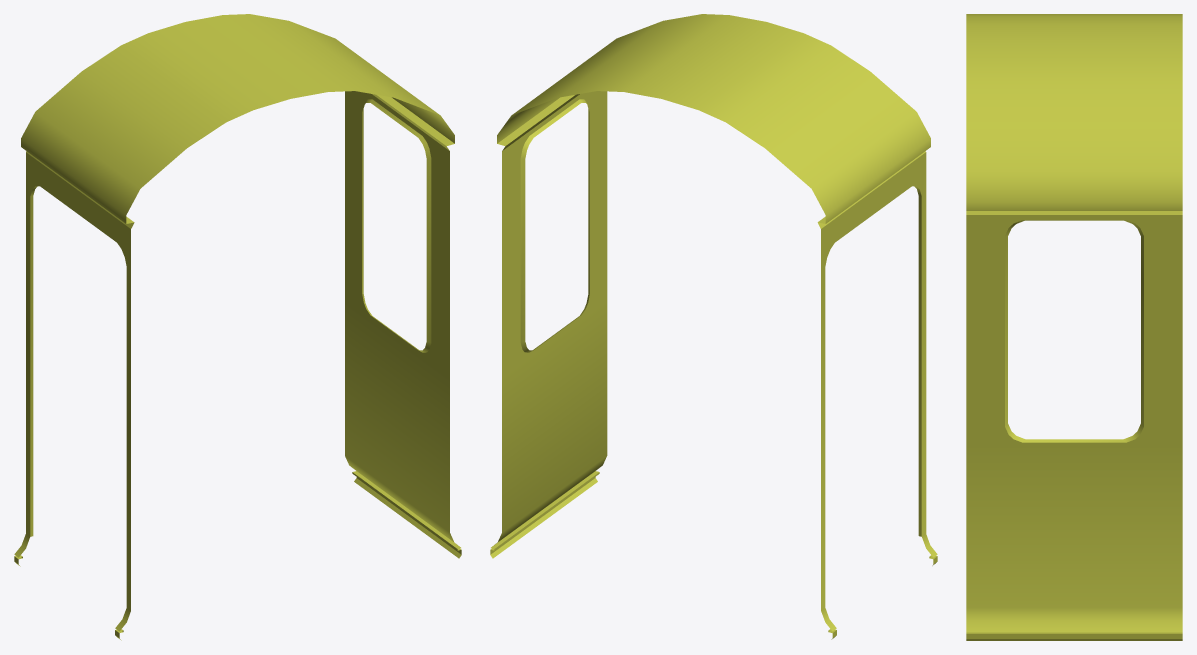
File: vagon enter lod2.FBX
The picture shows the model from 3 angles, left to right: view 1: azimuth 30°, elevation 25°; view 2: azimuth 150°, elevation 25°; view 3: azimuth 270°, elevation 25°; orthographic projection. The views are drawn at different scales.
Parts seen in each view (by area): view 1: Object884; view 2: Object884; view 3: Object884.
Boxes of the visible parts, x1,y1,x2,y2 form: Object884: (14,14,461,640); Object884: (490,14,937,639); Object884: (966,14,1182,640).
Size of the model in its own units: 2.25 by 3.15 by 1.2.
